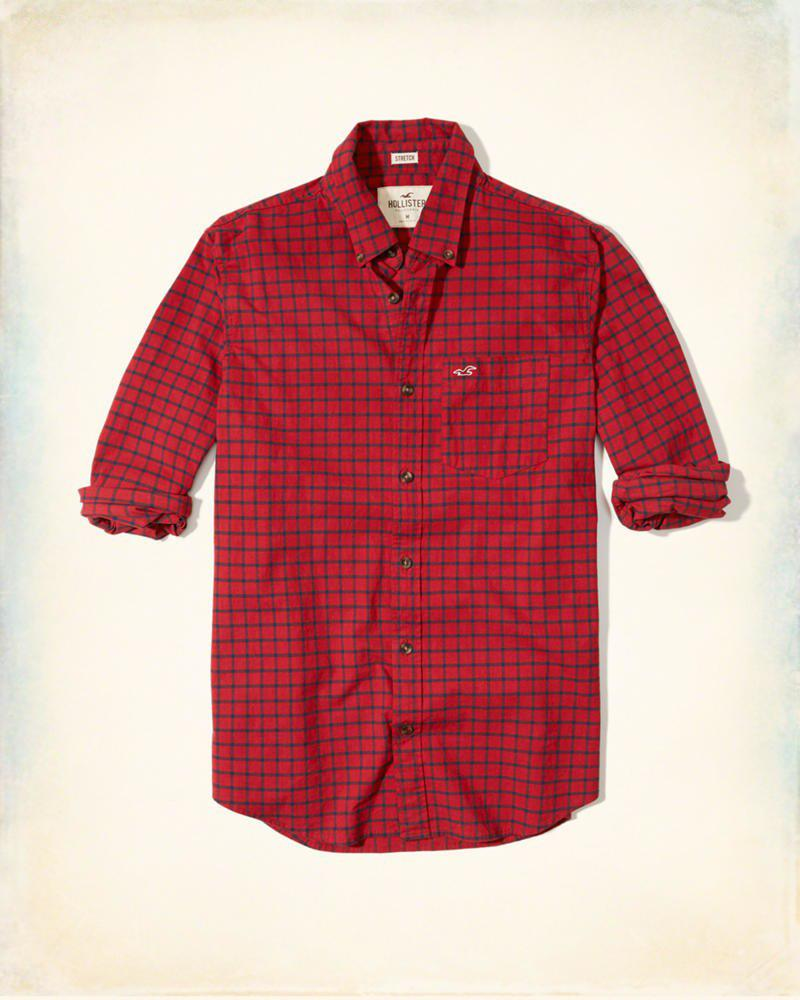teeshirt: (91, 116, 726, 868)
